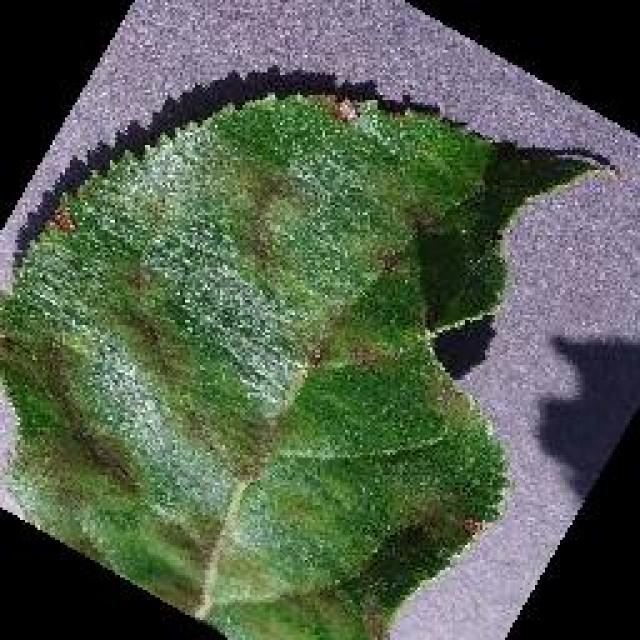apple scab disease: (0, 80, 615, 638)
